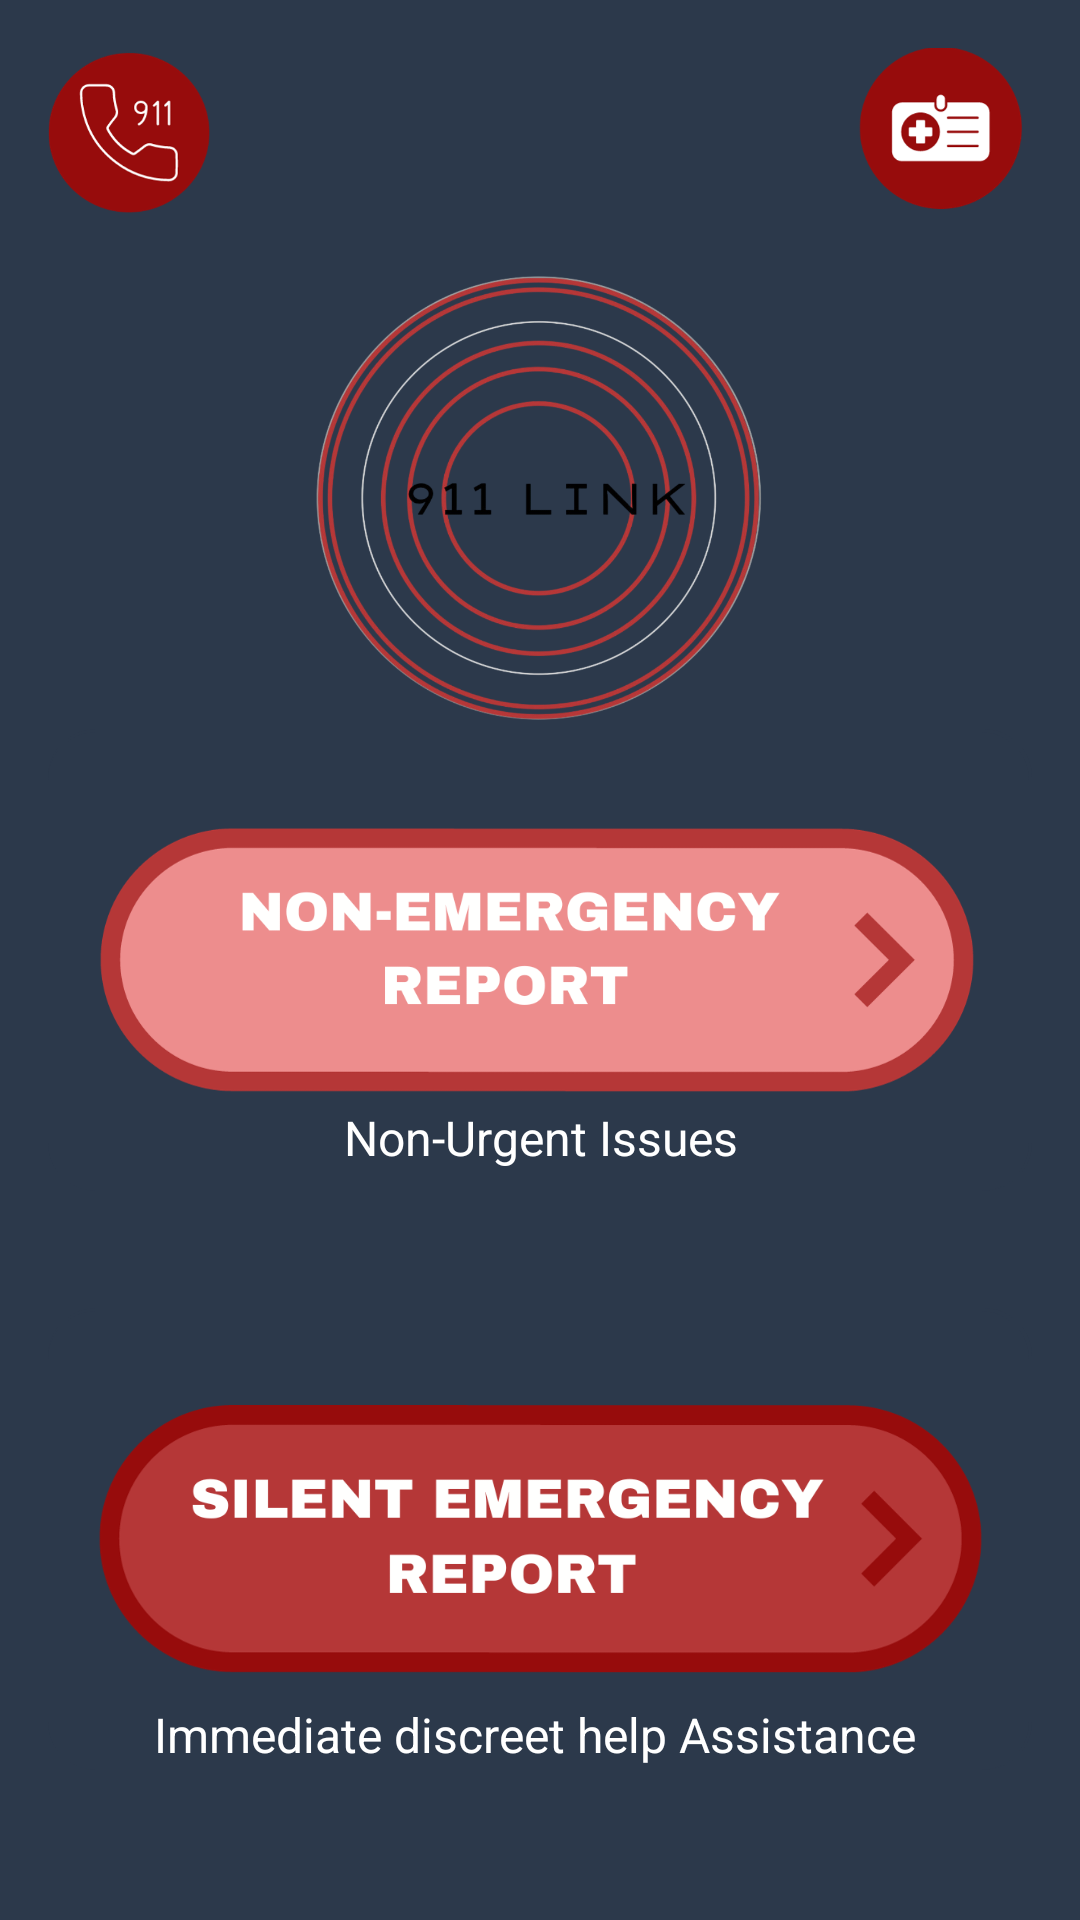

Named icons in this screenshot (1080 x 1920) and their bounding boxes, (x1, y1, x2, y2):
call diff: (49, 53, 210, 213)
